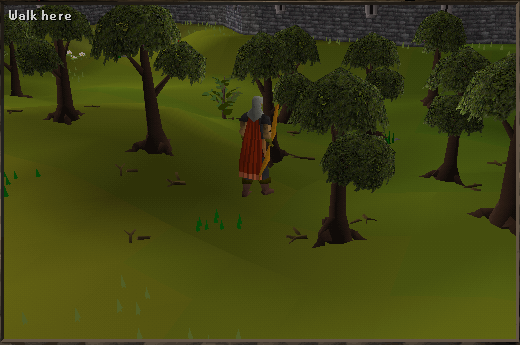Tree: (109, 0, 198, 160), (290, 90, 377, 253), (412, 66, 482, 186), (468, 68, 519, 218), (23, 6, 82, 135)
